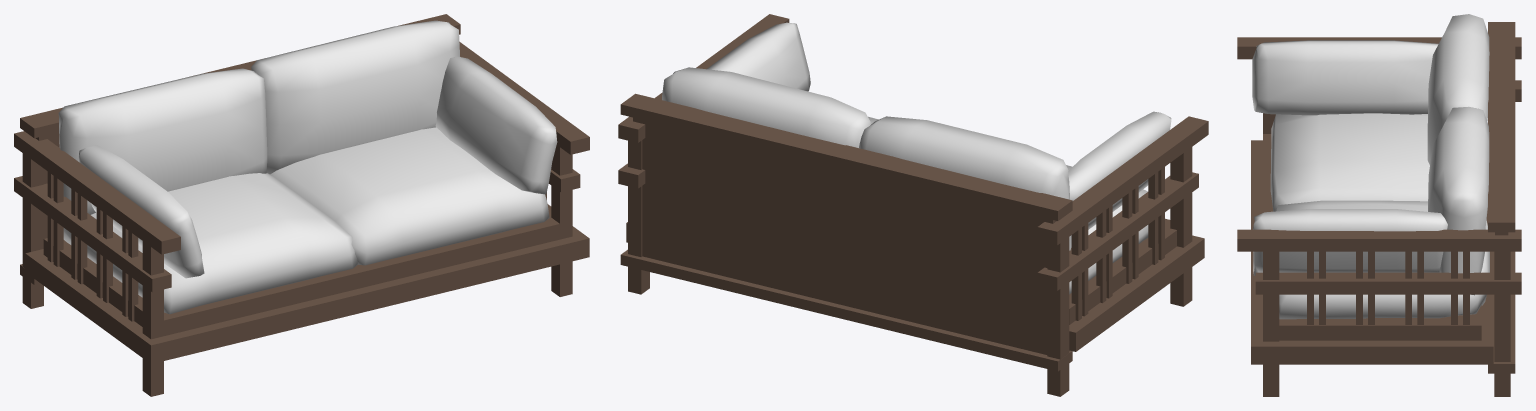
Rendered from sofa.fbx.
3 views of the same model, side by side, from view 1: azimuth 30°, elevation 25°; view 2: azimuth 150°, elevation 25°; view 3: azimuth 270°, elevation 25° (orthographic). The views are drawn at different scales.
Parts seen in each view (by area): view 1: polySurface34, polySurface37, polySurface36, polySurface57, polySurface46, polySurface40, polySurface41, polySurface58, polySurface50, polySurface63, polySurface62, polySurface52 (+3 smaller); view 2: polySurface42, polySurface34, polySurface63, polySurface64, polySurface57, polySurface37, polySurface46, polySurface41, polySurface40, polySurface51, polySurface36, polySurface58 (+5 smaller); view 3: polySurface34, polySurface37, polySurface58, polySurface63, polySurface47, polySurface36, polySurface51, polySurface50, polySurface57, polySurface64, polySurface38, polySurface39 (+6 smaller).
Part boxes in pixels (bbox=[...]): polySurface34: bbox=[58, 20, 557, 314]; polySurface37: bbox=[25, 226, 589, 363]; polySurface36: bbox=[43, 204, 571, 337]; polySurface57: bbox=[14, 131, 180, 254]; polySurface46: bbox=[14, 176, 171, 292]; polySurface40: bbox=[142, 241, 163, 396]; polySurface41: bbox=[22, 153, 43, 308]; polySurface58: bbox=[459, 41, 589, 154]; polySurface50: bbox=[551, 145, 572, 296]; polySurface63: bbox=[20, 14, 460, 138]; polySurface62: bbox=[53, 176, 63, 266]; polySurface52: bbox=[77, 193, 87, 284]; polySurface42: bbox=[633, 117, 1056, 354]; polySurface34: bbox=[662, 22, 1171, 294]; polySurface63: bbox=[620, 93, 1072, 220]; polySurface64: bbox=[620, 249, 1072, 371]; polySurface57: bbox=[1037, 116, 1208, 245]; polySurface37: bbox=[626, 222, 1204, 351]; polySurface46: bbox=[1037, 172, 1198, 290]; polySurface41: bbox=[1047, 237, 1069, 396]; polySurface40: bbox=[1170, 147, 1192, 306]; polySurface51: bbox=[628, 140, 649, 294]; polySurface36: bbox=[1069, 218, 1176, 324]; polySurface58: bbox=[618, 14, 789, 142]; polySurface34: bbox=[1252, 14, 1489, 319]; polySurface37: bbox=[1251, 140, 1493, 364]; polySurface58: bbox=[1237, 229, 1521, 251]; polySurface63: bbox=[1488, 22, 1515, 232]; polySurface47: bbox=[1255, 272, 1521, 294]; polySurface36: bbox=[1263, 134, 1481, 340]; polySurface51: bbox=[1494, 251, 1510, 396]; polySurface50: bbox=[1263, 251, 1279, 396]; polySurface57: bbox=[1237, 37, 1521, 59]; polySurface64: bbox=[1488, 251, 1515, 373]; polySurface38: bbox=[1319, 251, 1325, 324]; polySurface39: bbox=[1356, 251, 1362, 324].
Size of the model in its own units: 175 by 78.96 by 102.
